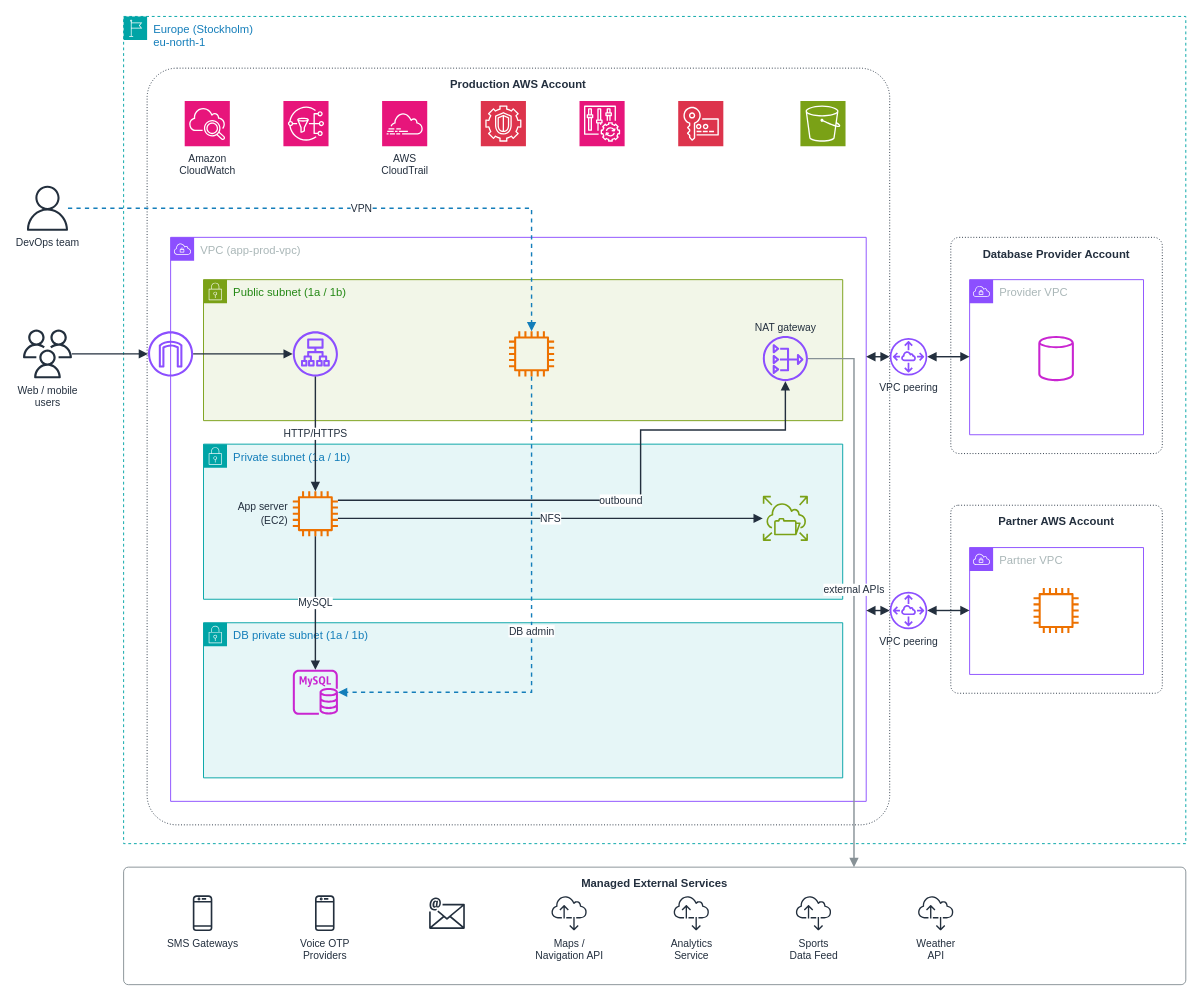
This 1202x1001 diagram has some shape labels left out. Each missing label, with the centre of its shape:
"Amazon EFS" goes at point (784, 517).
"Amazon GuardDuty" goes at point (503, 123).
"Amazon RDS MySQL" goes at point (314, 691).
"Amazon S3 (user static data)" goes at point (822, 123).
"Amazon SNS" goes at point (305, 123).
"Application Load Balancer" goes at point (314, 353).
"AWS Config" goes at point (602, 123).
"AWS KMS" goes at point (700, 123).
"Email Service" goes at point (446, 913).
"Internet gateway" goes at point (170, 353).
"Managed NoSQL database" goes at point (1055, 358).
"OpenVPN server (EC2)" goes at point (531, 353).
"Partner servers" goes at point (1055, 610).
